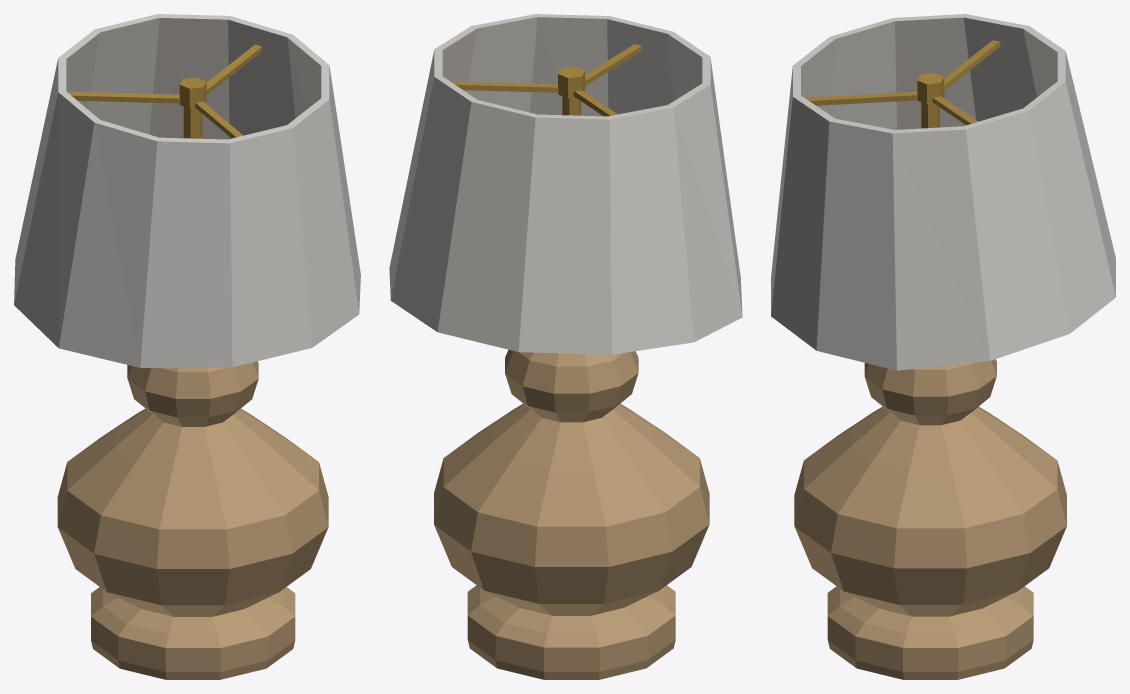
The model's file is lightbulb.glb.
The picture shows the model from 3 angles, left to right: view 1: azimuth 30°, elevation 25°; view 2: azimuth 150°, elevation 25°; view 3: azimuth 270°, elevation 25°; orthographic projection.
Parts seen in each view (by area): view 1: table-lamp-mesh; view 2: table-lamp-mesh; view 3: table-lamp-mesh.
Boxes of the visible parts, x1=… form: table-lamp-mesh: x1=14, y1=14, x2=360, y2=679; table-lamp-mesh: x1=389, y1=14, x2=742, y2=679; table-lamp-mesh: x1=771, y1=14, x2=1115, y2=679.
Size of the model in its own units: 0.2514 by 0.4509 by 0.2468.
